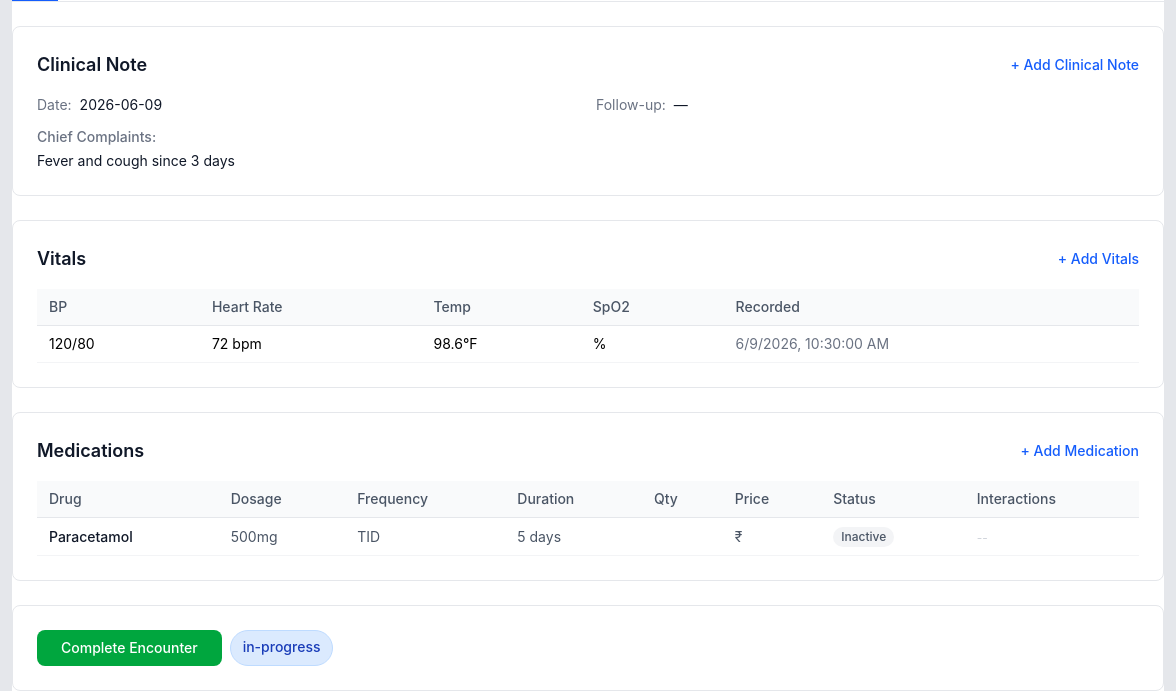
Test case: EncounterDetail › shows Complete Encounter form
(page scrolled)
Click the button "Complete Encounter" at (129, 648), box [37, 630, 222, 666]
(page scrolled)
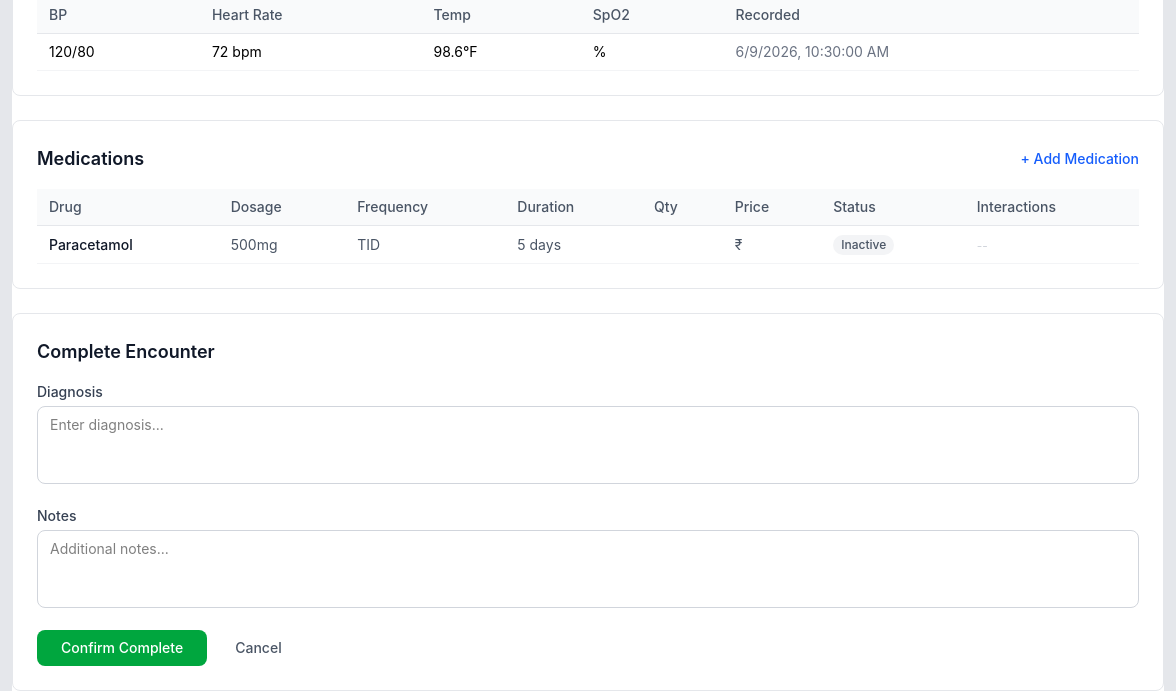
Expected: the text box labelled "Diagnosis" is shown, [37, 406, 1139, 484]
Expected: the text box labelled "Notes" is shown, [37, 530, 1139, 608]
Expected: the button "Confirm Complete" is shown, [37, 630, 207, 666]
